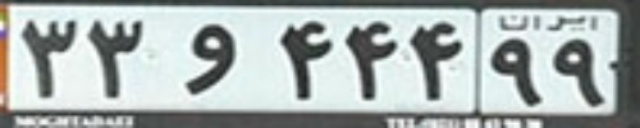3: (85, 18, 143, 98), (21, 17, 77, 98)
4: (408, 19, 463, 101), (278, 19, 334, 99), (343, 19, 396, 101)
9: (490, 36, 544, 106), (552, 38, 605, 107)
vav: (181, 23, 238, 94)
